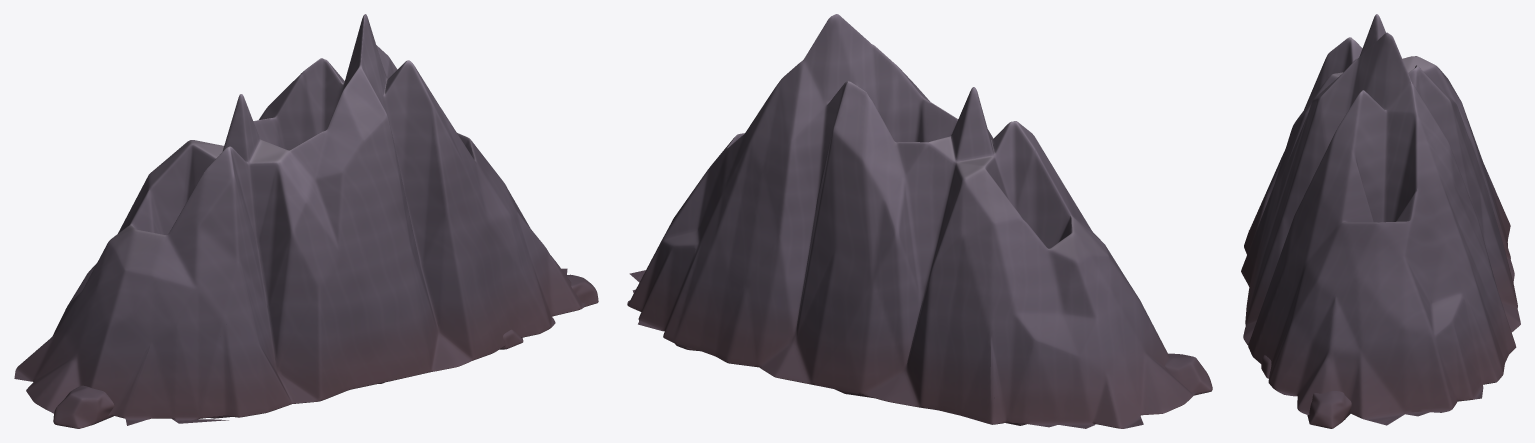
File: EF_B02_BasaltRidge.fbx
3 renders of one model, left to right at view 1: azimuth 30°, elevation 25°; view 2: azimuth 150°, elevation 25°; view 3: azimuth 270°, elevation 25°, orthographic. The views are drawn at different scales.
Parts seen in each view (by area): view 1: Rock_LOD0; view 2: Rock_LOD0; view 3: Rock_LOD0.
Boxes of the visible parts, x1,y1,x2,y2 form: Rock_LOD0: (14, 14, 598, 428); Rock_LOD0: (627, 14, 1212, 428); Rock_LOD0: (1241, 14, 1520, 428).
Size of what is drawn, in the model's own units: 48 by 26 by 22.
